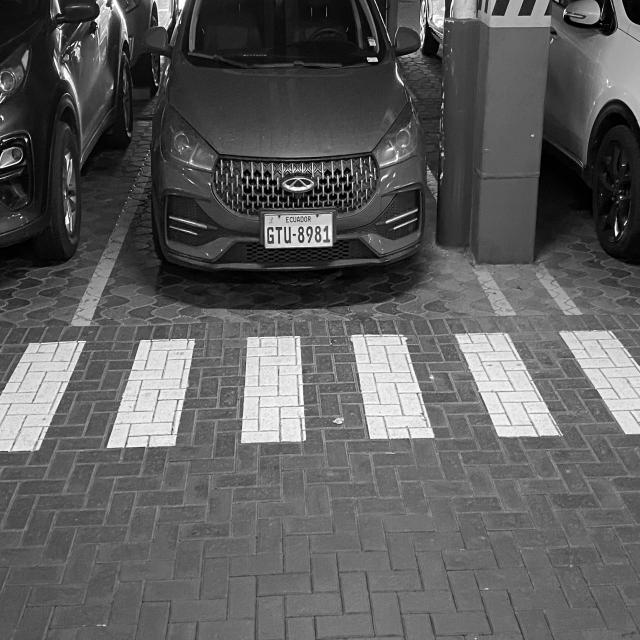Placa: (263, 213, 334, 248)
